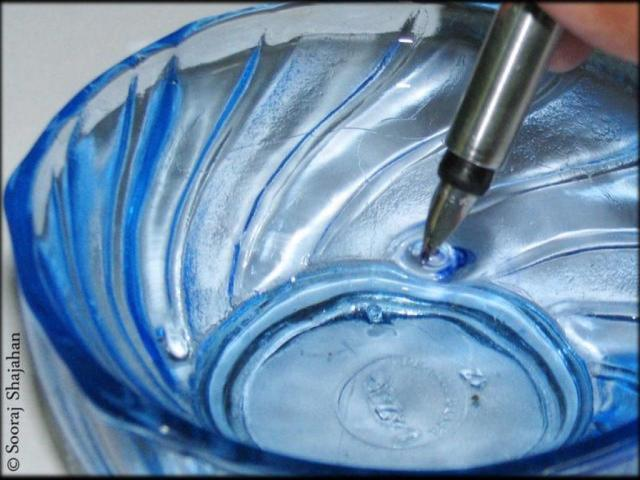PEN: (395, 3, 575, 281)
